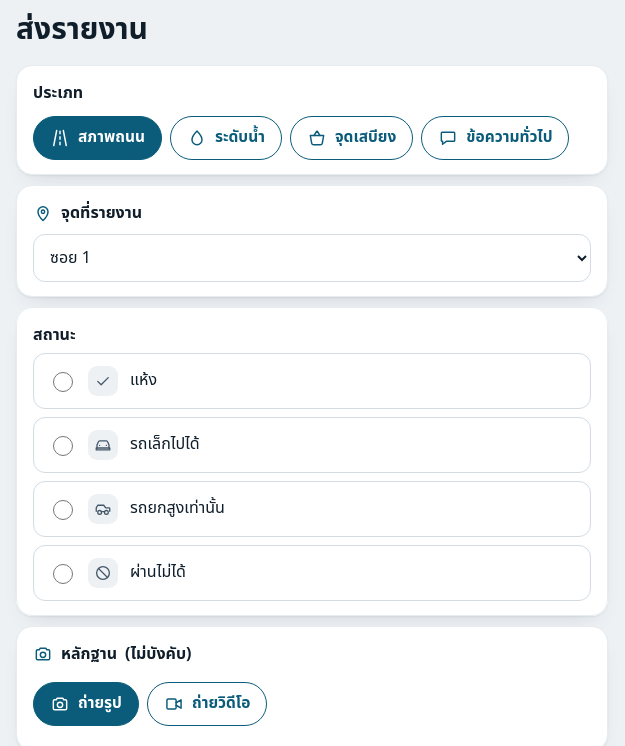
shows success after add + flush when the item is in neither list
Click the radio button labelled "ผ่านไม่ได้".
click(63, 574)  # box [53,564,73,584]
(page scrolled)
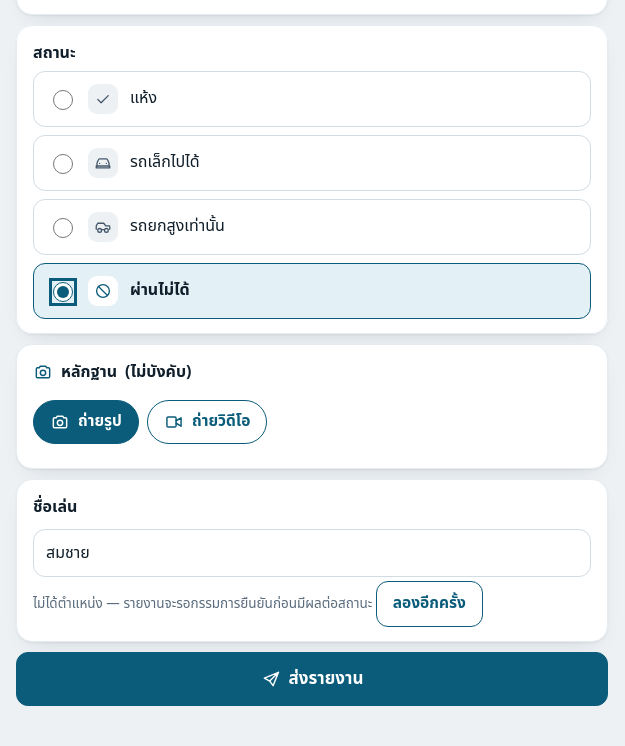
Click the button "ส่งรายงาน".
click(312, 679)  # box [16,652,608,706]
(page scrolled)
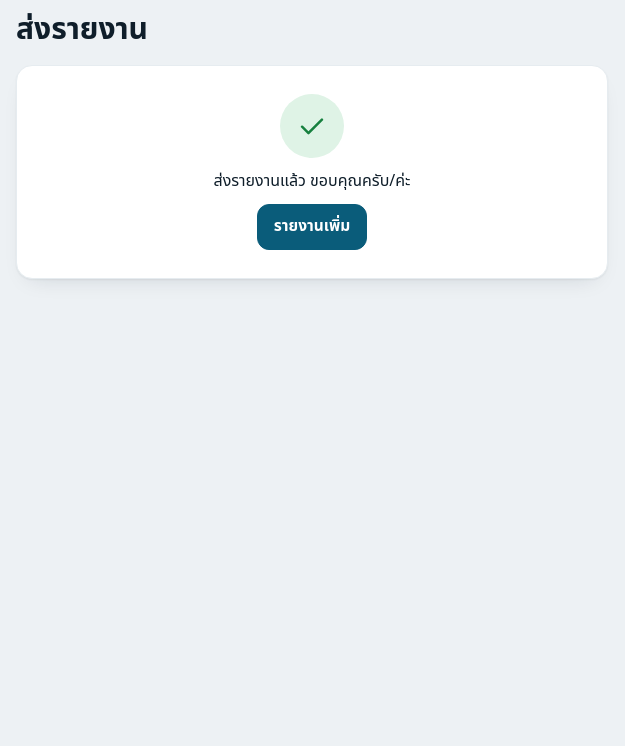
Now the text "ส่งรายงานแล้ว ขอบคุณครับ/ค่ะ" is shown, box [214,168,410,194]
